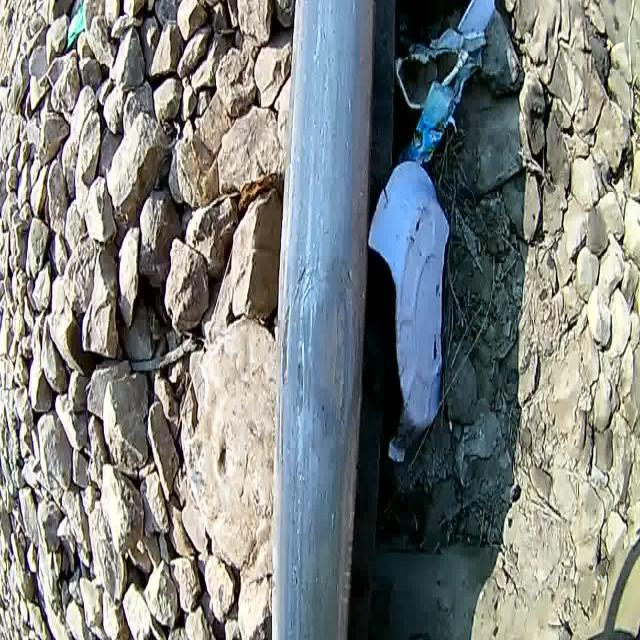Squats: (252, 0, 398, 640)
